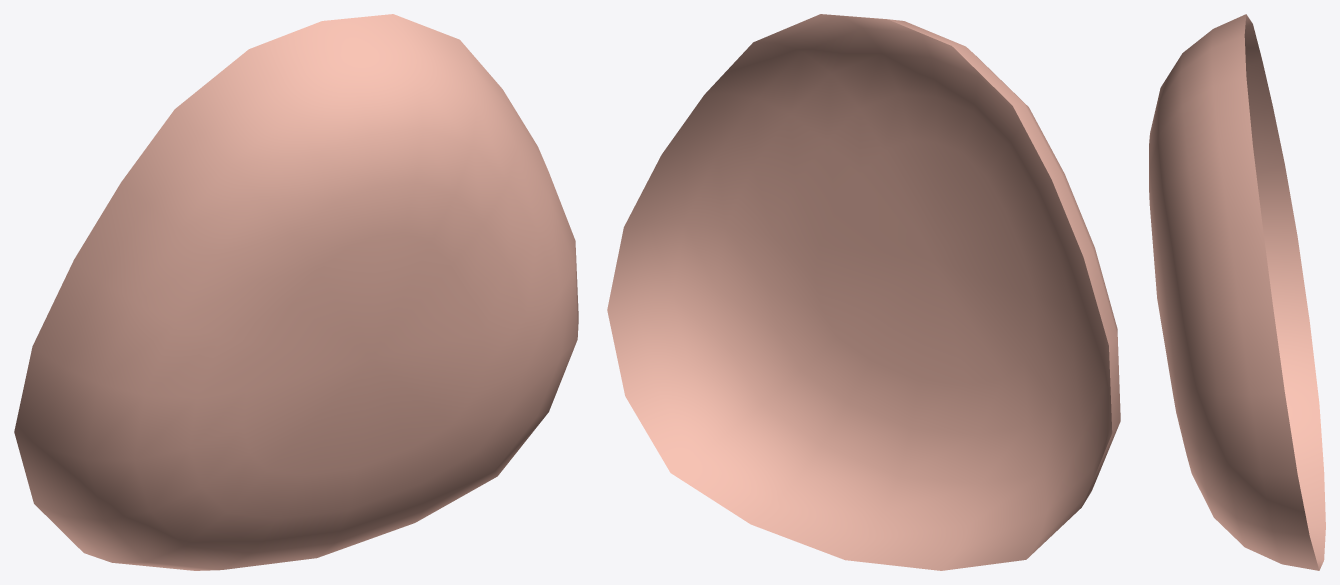
File: Nose B 5.glb
The picture shows the model from 3 angles, left to right: view 1: azimuth 30°, elevation 25°; view 2: azimuth 150°, elevation 25°; view 3: azimuth 270°, elevation 25°; orthographic projection. The views are drawn at different scales.
Visible parts, largest first — view 1: nose_b_5; view 2: nose_b_5; view 3: nose_b_5.
Boxes of the visible parts, bbox=[...] form: nose_b_5: bbox=[14, 14, 578, 570]; nose_b_5: bbox=[607, 14, 1120, 570]; nose_b_5: bbox=[1149, 14, 1325, 570].
Bounding box in the file's own units: 0.000737 × 0.000711 × 0.000232.
